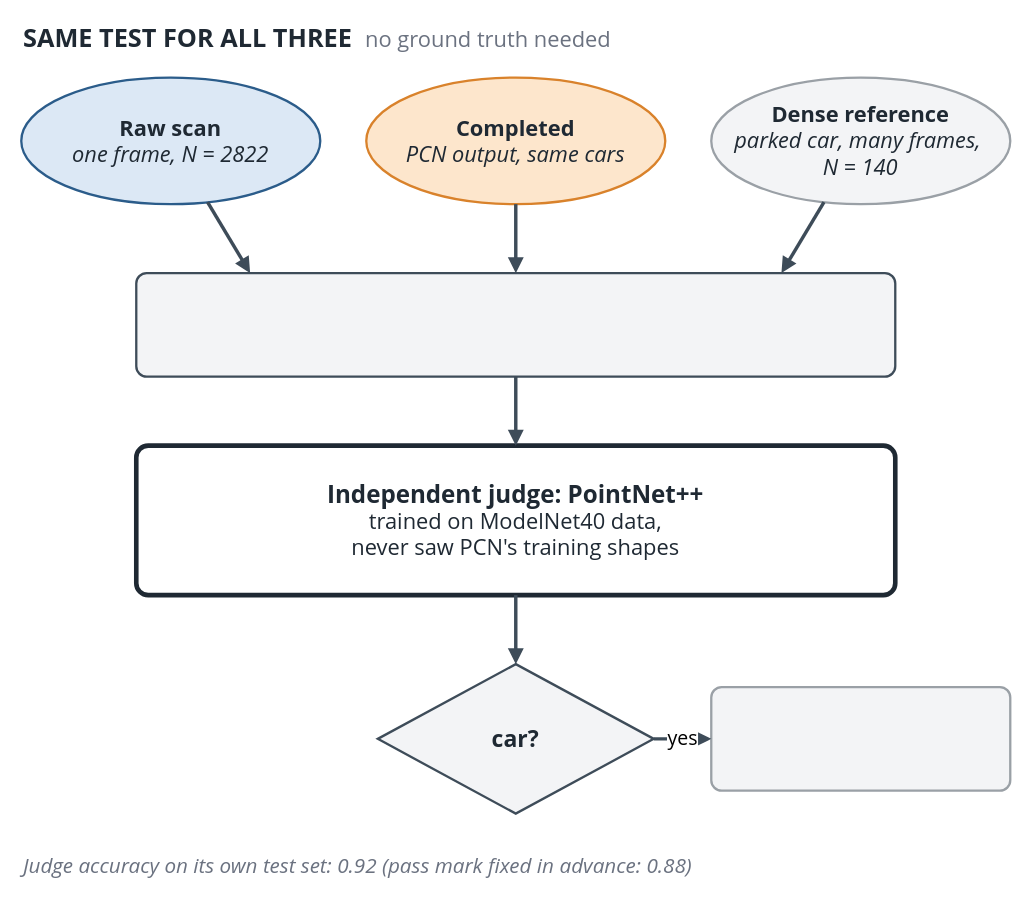
Some shapes in this 1030 by 902 pixel diagram are drawn without their labels. The box of each missing label's shape, as (x1, y1, x2, y2) in pixels:
Acceptance share judged “car”: (710, 685, 1011, 791)
Same preparation turn upright · 1024 points · unit size: (135, 271, 896, 377)
